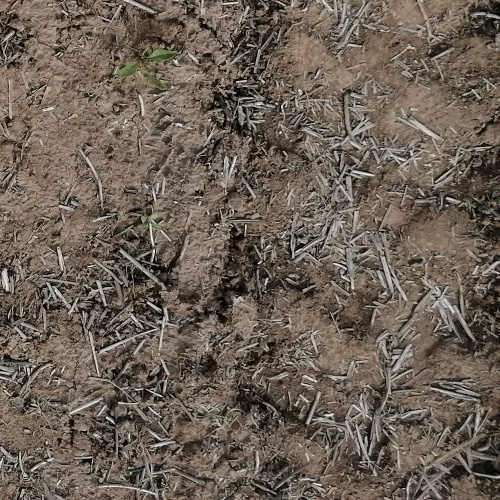beet: (117, 47, 176, 91)
